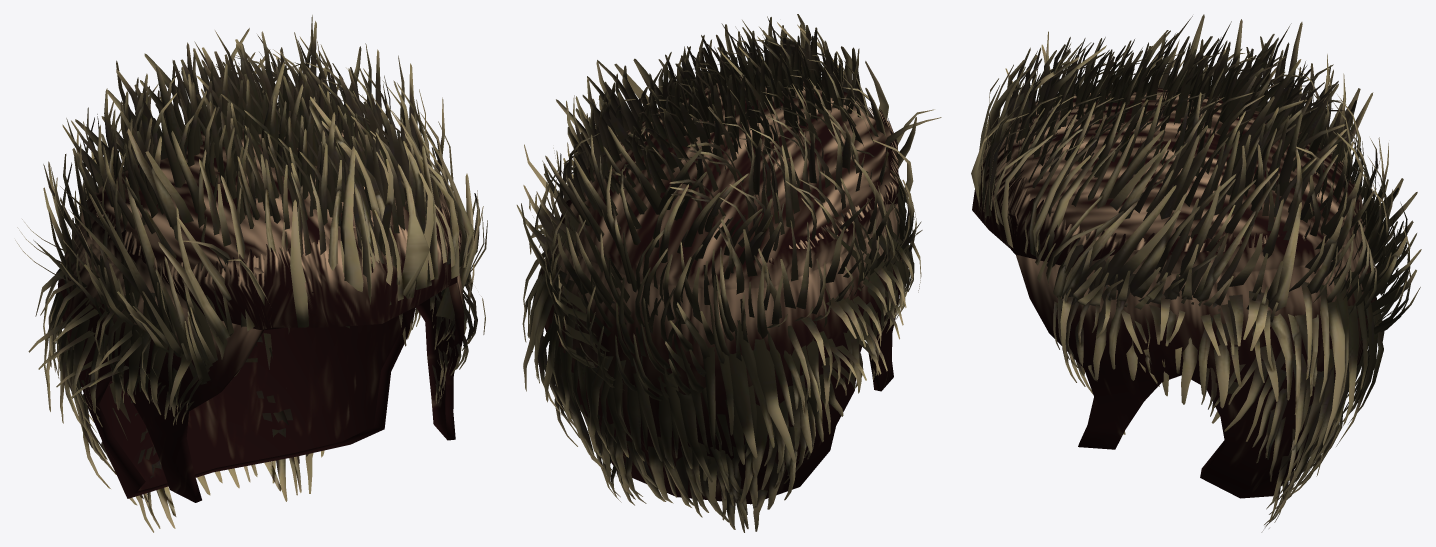
Rendered from Frosted_Tips.glb.
3 renders of one model, left to right at view 1: azimuth 30°, elevation 25°; view 2: azimuth 150°, elevation 25°; view 3: azimuth 270°, elevation 25°, orthographic. The views are drawn at different scales.
Visible parts, largest first — view 1: Frosted Tips; view 2: Frosted Tips; view 3: Frosted Tips.
Part boxes in pixels (x1,y1,x2,y2): Frosted Tips: [15, 15, 487, 532]; Frosted Tips: [516, 14, 941, 532]; Frosted Tips: [971, 14, 1421, 532].
Bounding box in the file's own units: 1.04 × 1.26 × 1.13.
Materials: 2 (2 with a texture image).
